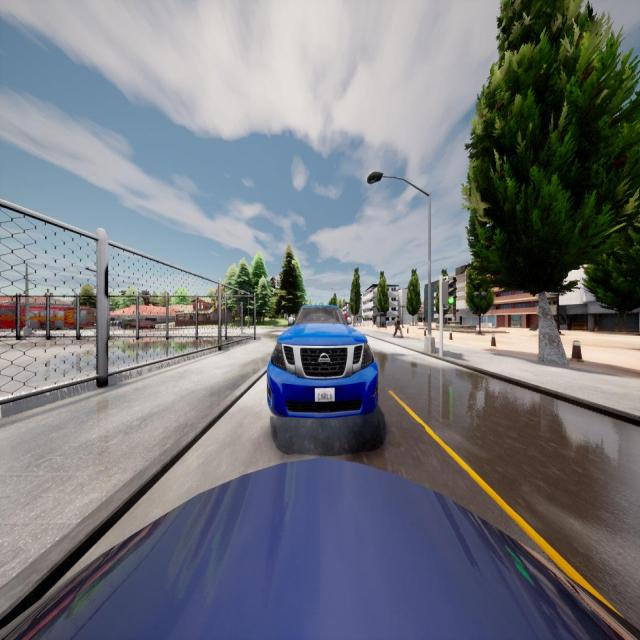Pedestrian: (393, 315, 403, 337)
Vehicle: (0, 462, 640, 640), (266, 306, 378, 418), (0, 300, 94, 327), (121, 320, 155, 330)
traffic_light: (443, 279, 454, 305), (239, 306, 241, 315)
